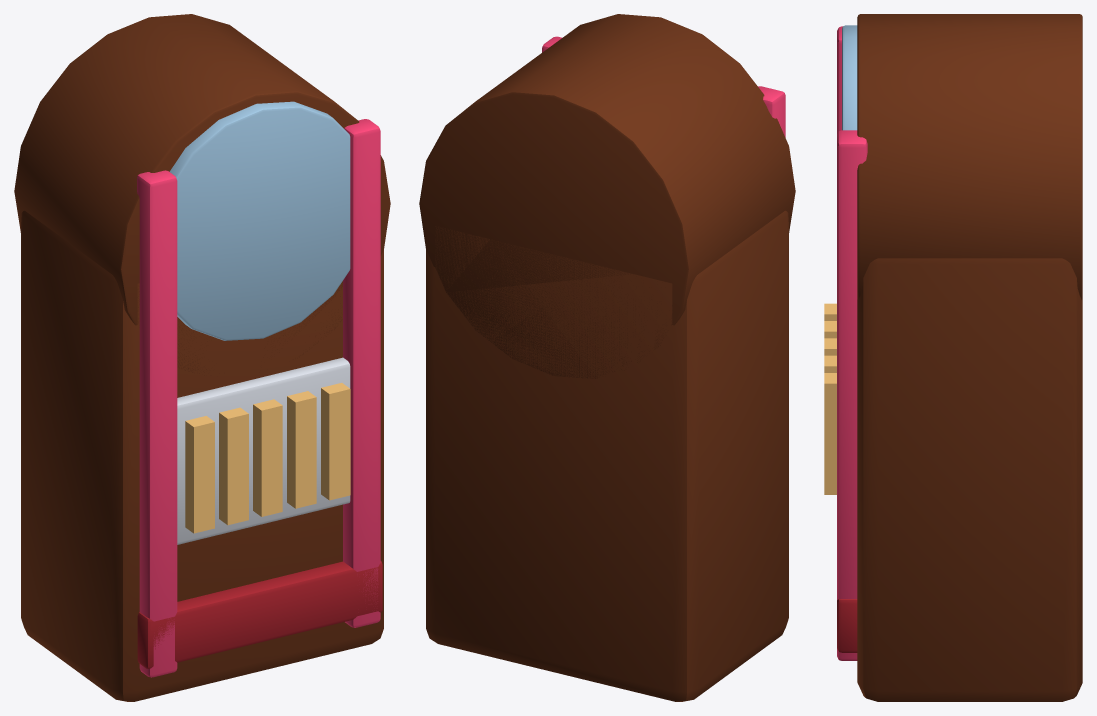
The model's file is HeroClub.fbx.
3 views of the same model, side by side, from view 1: azimuth 30°, elevation 25°; view 2: azimuth 150°, elevation 25°; view 3: azimuth 270°, elevation 25° (orthographic). The views are drawn at different scales.
Parts seen in each view (by area): view 1: HeroClub; view 2: HeroClub; view 3: HeroClub.
Boxes of the visible parts, left/top/right/bottom form: HeroClub: left=14, top=14, right=390, bottom=701; HeroClub: left=419, top=14, right=795, bottom=701; HeroClub: left=824, top=14, right=1082, bottom=701.
Bounding box in the file's own units: 320 × 660 × 253.
